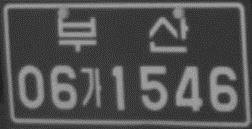0: (18, 63, 48, 108)
1: (109, 63, 129, 112)
4: (171, 64, 203, 115)
5: (137, 63, 170, 110)
6: (207, 65, 239, 113), (48, 64, 77, 111)
가: (79, 65, 105, 110)
부산_D: (55, 14, 190, 56)
